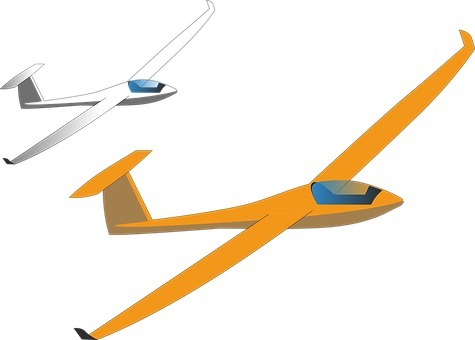aeroplane: (58, 14, 470, 339), (9, 5, 226, 164)
